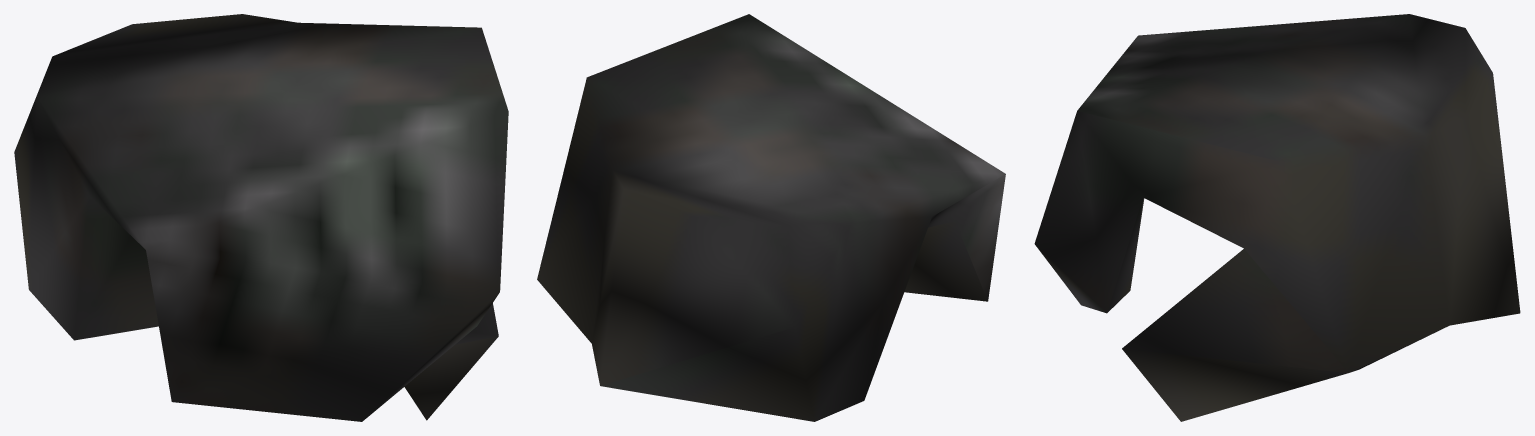
File: Robot01.RightPalm1.fbx
3 renders of one model, left to right at view 1: azimuth 30°, elevation 25°; view 2: azimuth 150°, elevation 25°; view 3: azimuth 270°, elevation 25°, orthographic. The views are drawn at different scales.
Parts seen in each view (by area): view 1: Robot.028; view 2: Robot.028; view 3: Robot.028.
Boxes of the visible parts, <box> form: Robot.028: <box>14,14,508,421</box>; Robot.028: <box>537,14,1005,421</box>; Robot.028: <box>1034,14,1520,421</box>.
Bounding box in the file's own units: 30.35 × 22.98 × 31.28.
